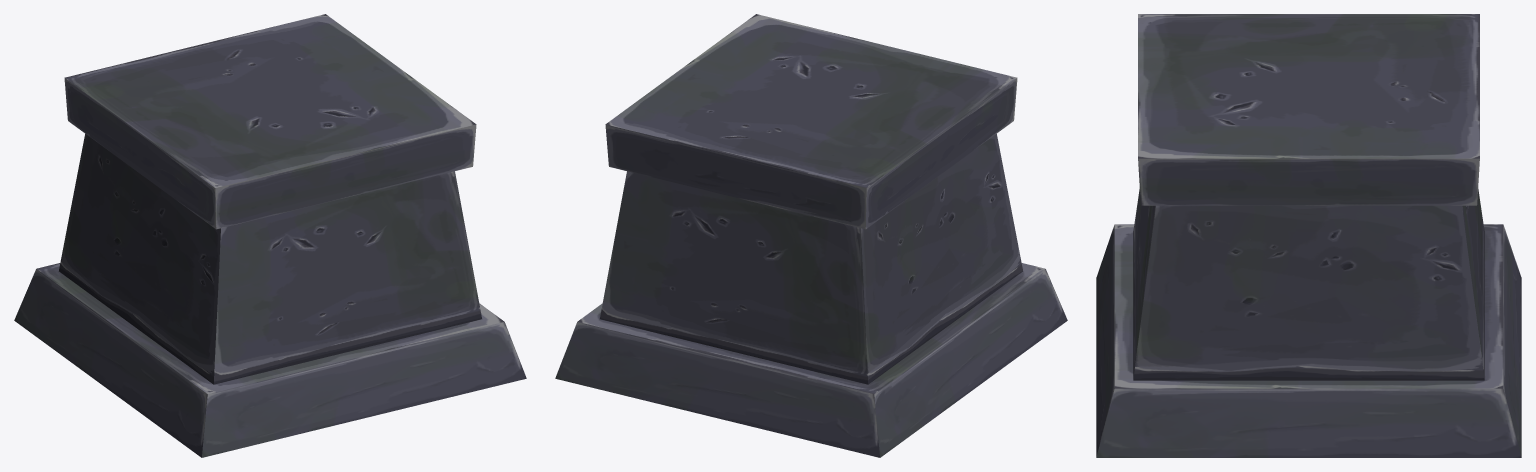
File: MOD_Column_01_base.fbx
3 renders of one model, left to right at view 1: azimuth 30°, elevation 25°; view 2: azimuth 150°, elevation 25°; view 3: azimuth 270°, elevation 25°, orthographic. The views are drawn at different scales.
Visible parts, largest first — view 1: MOD_Column_01_base; view 2: MOD_Column_01_base; view 3: MOD_Column_01_base.
Boxes of the visible parts, x1,y1,x2,y2 form: MOD_Column_01_base: [14, 14, 526, 457]; MOD_Column_01_base: [555, 14, 1067, 457]; MOD_Column_01_base: [1096, 14, 1521, 457].
Size of the model in its own units: 140 by 102 by 140.
